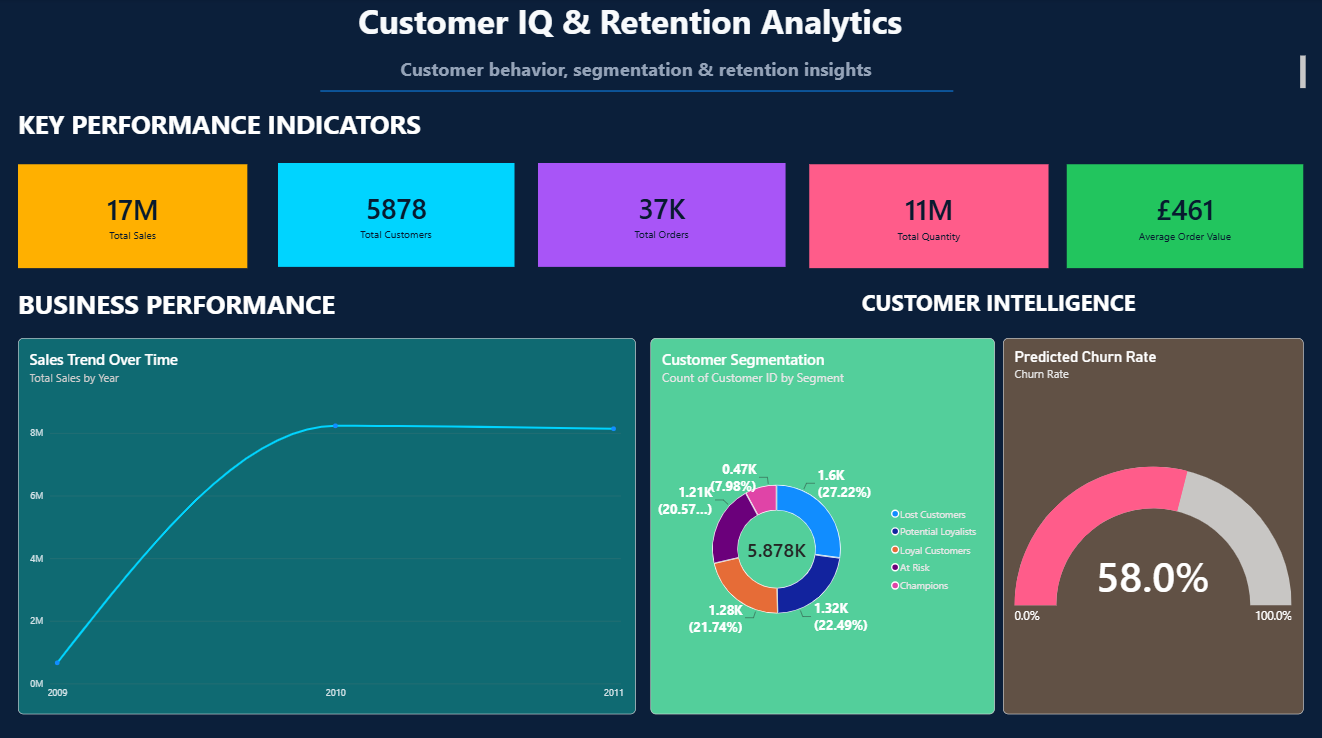

The dashboard page shown, as its layout file describes it:
{"tool":"powerbi","page":{"name":"Executive Overview","canvas":[1920,1080],"ordinal":0},"visuals":[{"type":"textbox","box":[30,0,1862,84],"z":0},{"type":"textbox","box":[30,84,1862,50],"z":1000},{"type":"card","fields":{"Values":["Sales.Total Sales"]},"box":[29.6,240.7,332,150],"z":2000},{"type":"shape","box":[466,50,916,168],"z":3000},{"type":"card","fields":{"Values":["Sales.Total Customers"]},"box":[405.6,238.9,342,150],"z":4000},{"type":"card","fields":{"Values":["Sales.Total Orders"]},"box":[781.5,238.9,358,150],"z":5000},{"type":"card","fields":{"Values":["Sales.Total Quantity"]},"box":[1174.1,240.7,346.3,150],"z":6000},{"type":"card","fields":{"Values":["Sales.Average Order Value"]},"box":[1548.1,240.7,342,150],"z":7000},{"type":"lineChart","title":"Sales Trend Over Time","fields":{"Y":["Sales.Total Sales"],"Category":["Sales.InvoiceDate.Variation.Date Hierarchy.Year","Sales.InvoiceDate.Variation.Date Hierarchy.Quarter","Sales.InvoiceDate.Variation.Date Hierarchy.Month","Sales.InvoiceDate.Variation.Date Hierarchy.Day"]},"box":[29.6,492.6,894.4,544.4],"z":8000},{"type":"donutChart","title":"Customer Segmentation","fields":{"Category":["Customer_RFM.Segment"],"Y":["CountNonNull(Customer_RFM.Customer ID)"]},"box":[944.4,492.6,498.1,544.4],"z":9000},{"type":"gauge","title":"Predicted Churn Rate","fields":{"Y":["Churn_Predictions.Churn Rate"]},"box":[1455.6,492.6,435.2,544.4],"z":10000},{"type":"textbox","box":[29.6,418.5,629.6,74.1],"z":11000},{"type":"textbox","box":[29.6,157.4,629.6,61.1],"z":12000},{"type":"textbox","box":[1250,418.5,557.4,74.1],"z":13000}]}

Visuals, with their boxes in screenshot pixels (x1, y1, x2, y2), scaled from the page's 1920x1080 canvas onto the 1322x738 screenshot:
textbox: [x1=21, y1=0, x2=1303, y2=57]
textbox: [x1=21, y1=57, x2=1303, y2=92]
card - Sales.Total Sales: [x1=20, y1=164, x2=249, y2=267]
shape: [x1=321, y1=34, x2=952, y2=149]
card - Sales.Total Customers: [x1=279, y1=163, x2=515, y2=266]
card - Sales.Total Orders: [x1=538, y1=163, x2=785, y2=266]
card - Sales.Total Quantity: [x1=808, y1=164, x2=1047, y2=267]
card - Sales.Average Order Value: [x1=1066, y1=164, x2=1301, y2=267]
"Sales Trend Over Time" lineChart: [x1=20, y1=337, x2=636, y2=709]
"Customer Segmentation" donutChart: [x1=650, y1=337, x2=993, y2=709]
"Predicted Churn Rate" gauge: [x1=1002, y1=337, x2=1302, y2=709]
textbox: [x1=20, y1=286, x2=454, y2=337]
textbox: [x1=20, y1=108, x2=454, y2=149]
textbox: [x1=861, y1=286, x2=1244, y2=337]
